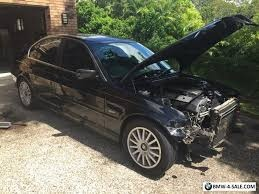Broken-glass: (166, 116, 194, 137)
Dent: (37, 92, 110, 116)
Smashed: (150, 94, 248, 174)
